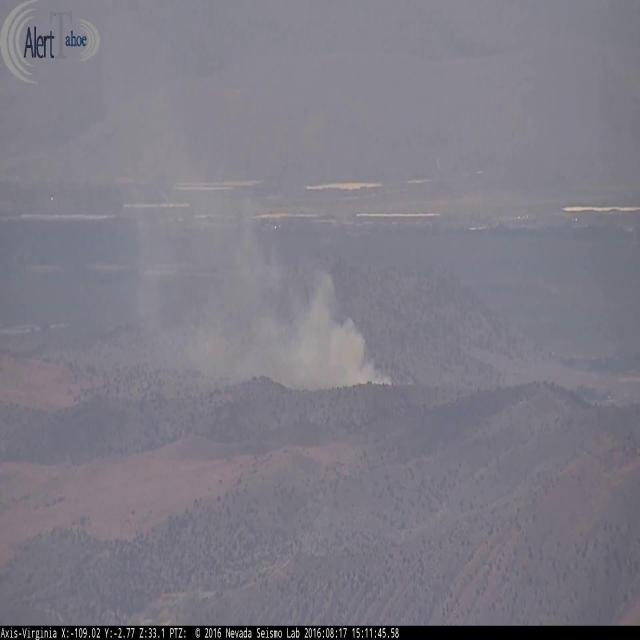smoke: (138, 132, 396, 388)
